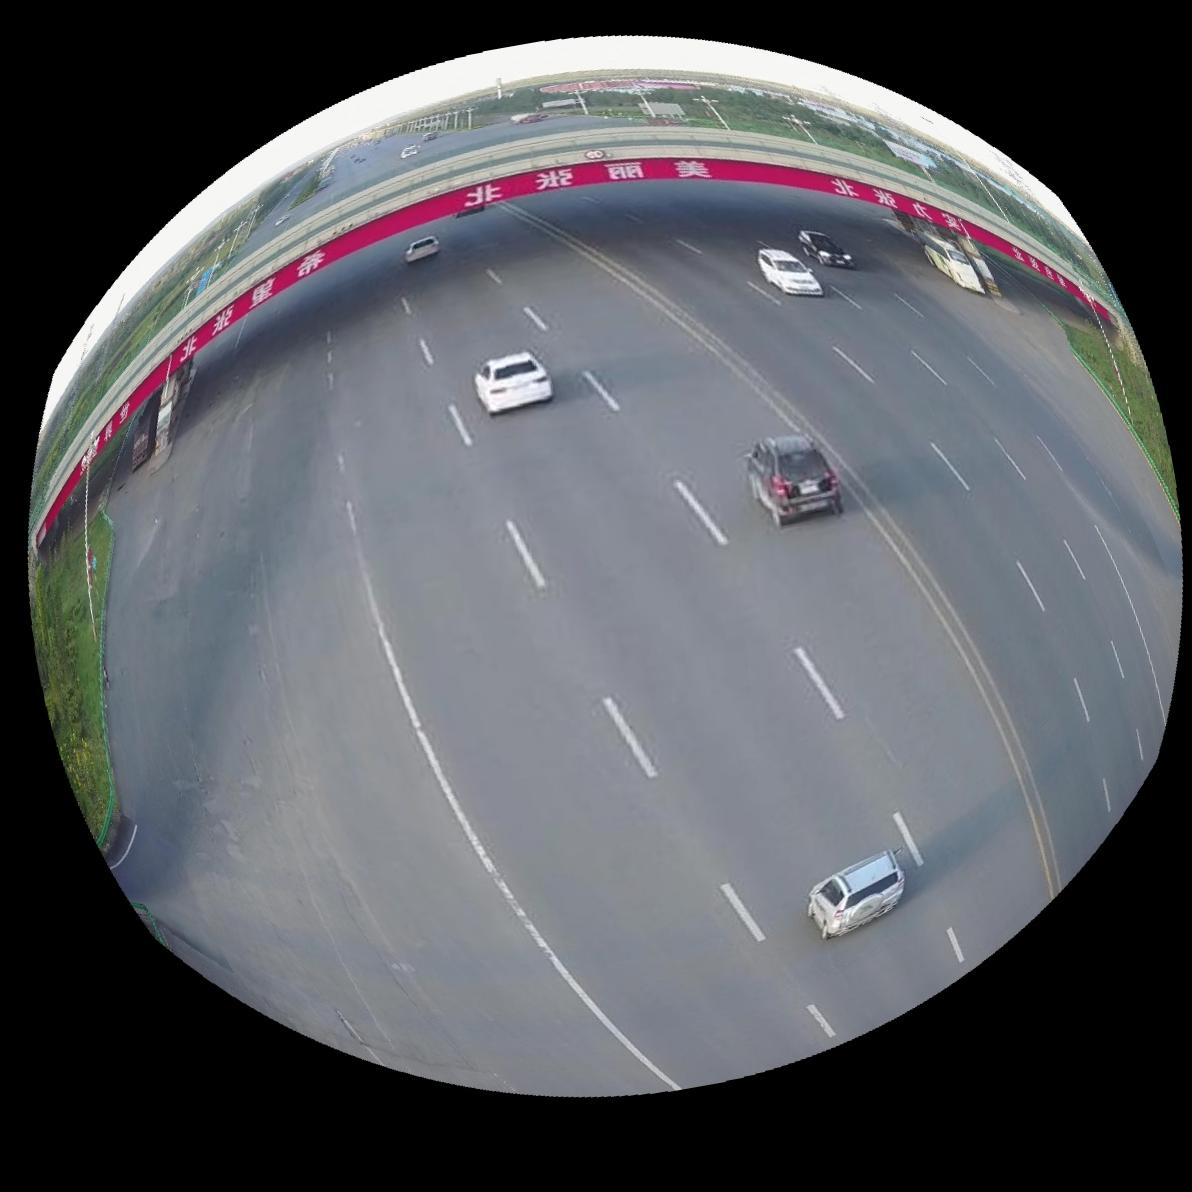cars: (746, 434, 844, 527), (808, 851, 906, 941), (474, 351, 552, 415), (919, 233, 986, 293), (759, 248, 824, 296), (128, 392, 158, 470), (800, 229, 857, 267), (401, 235, 440, 263)
trees: (26, 468, 115, 846), (1070, 311, 1177, 506)
